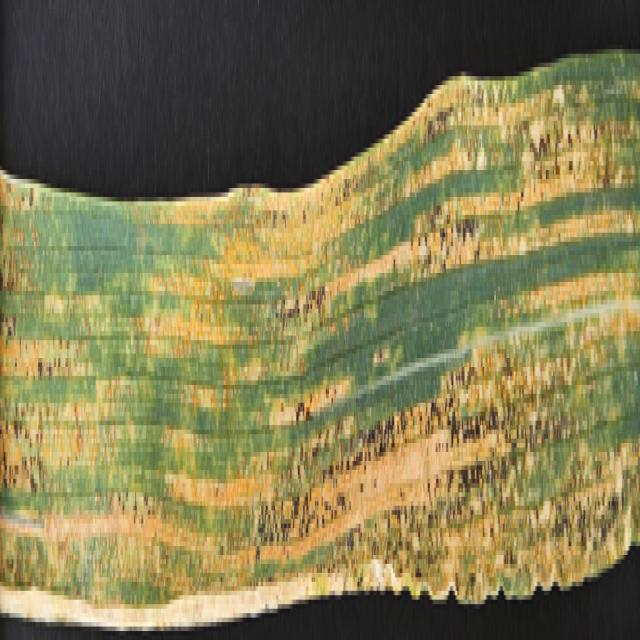leaf rust: (0, 103, 640, 631)
